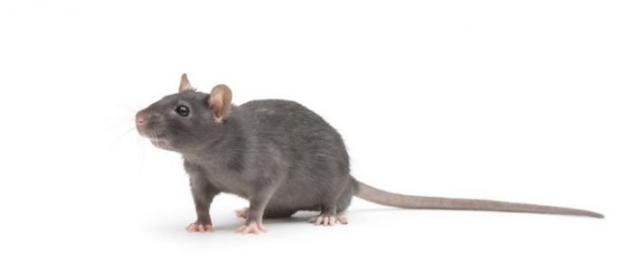rat: (122, 66, 424, 236)
